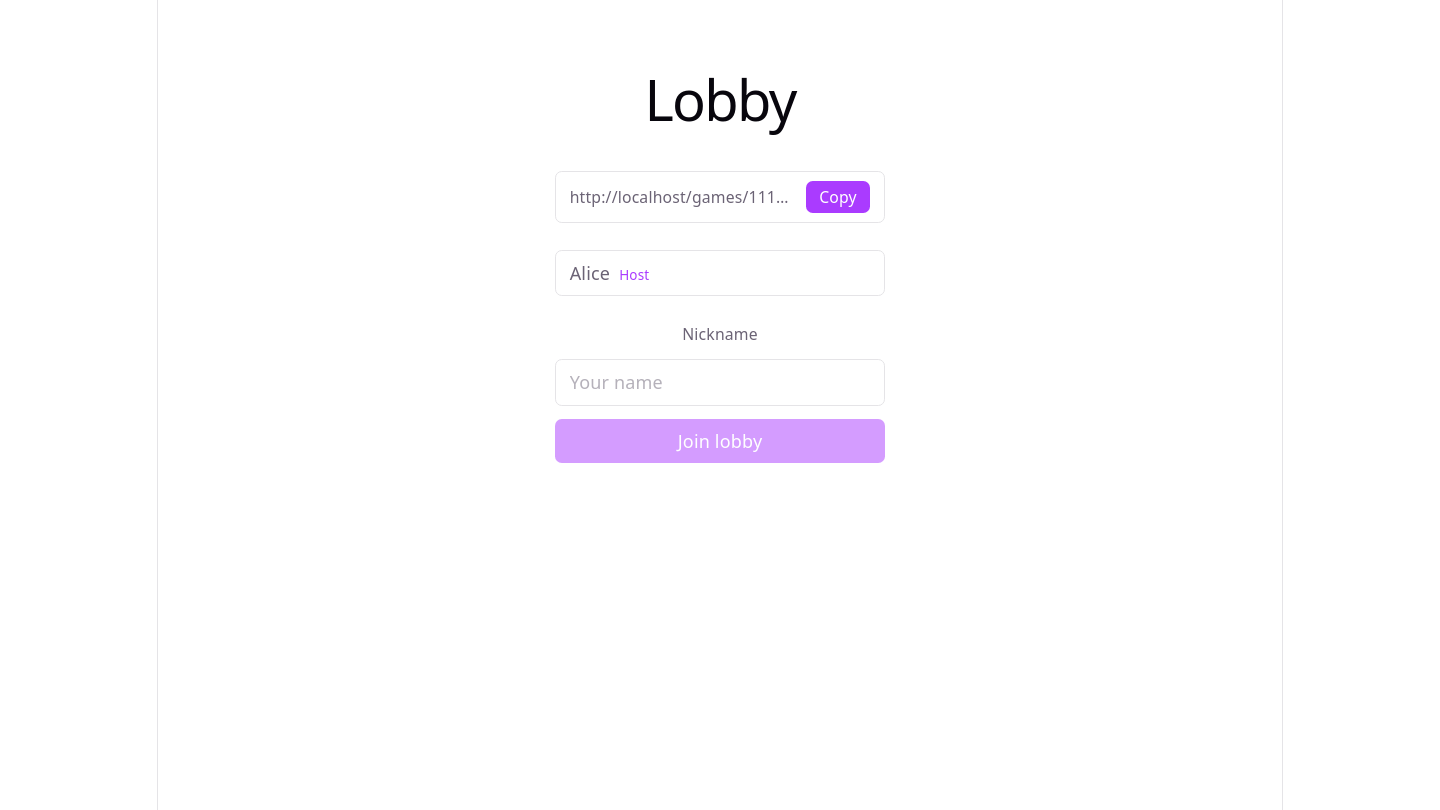
Test: LobbyPage › joins the lobby and shows the seated view
Type "Bob" into the field labelled "Nickname" at (720, 382), box [555,359,885,406]
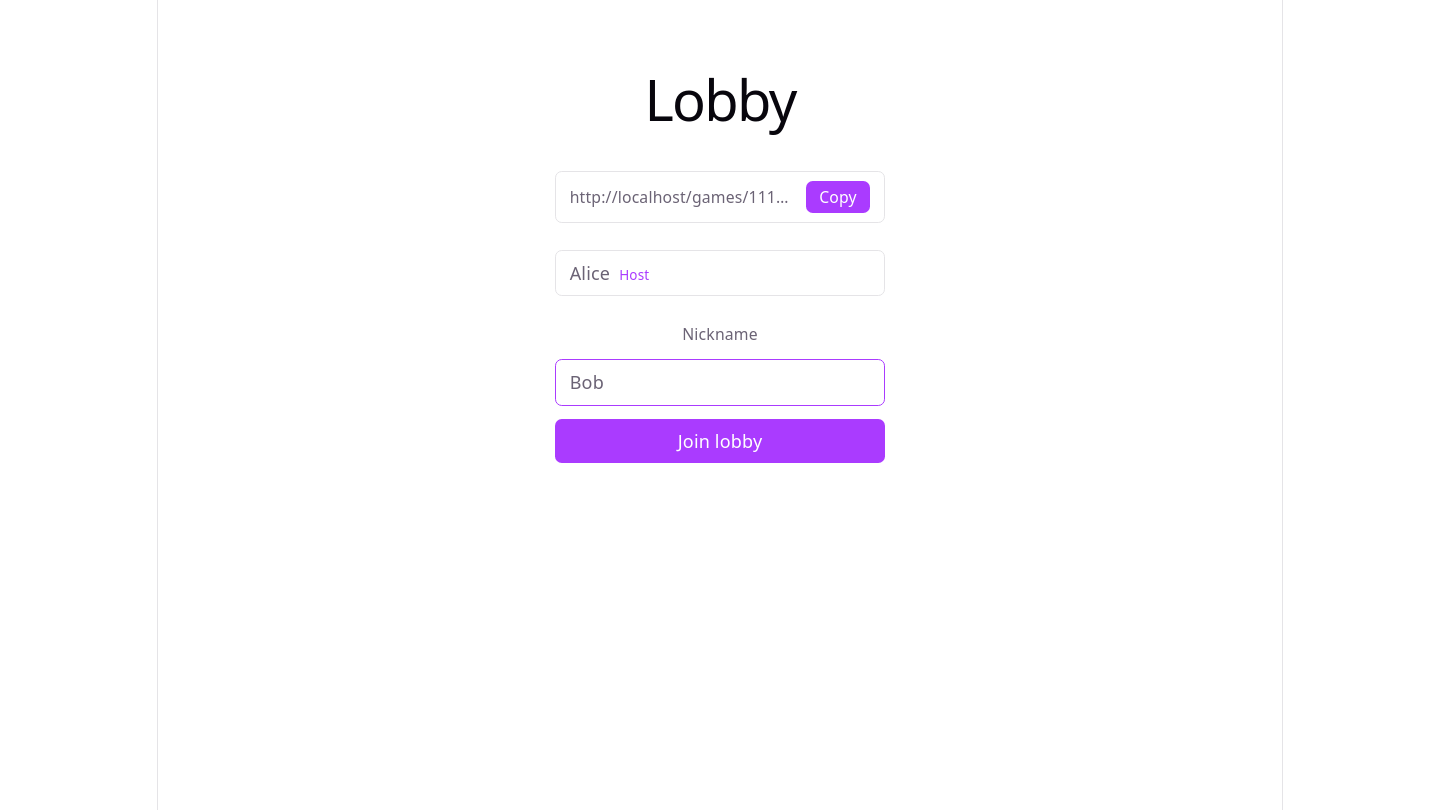
Click the button "Join lobby" at (720, 441), box [555,419,885,463]
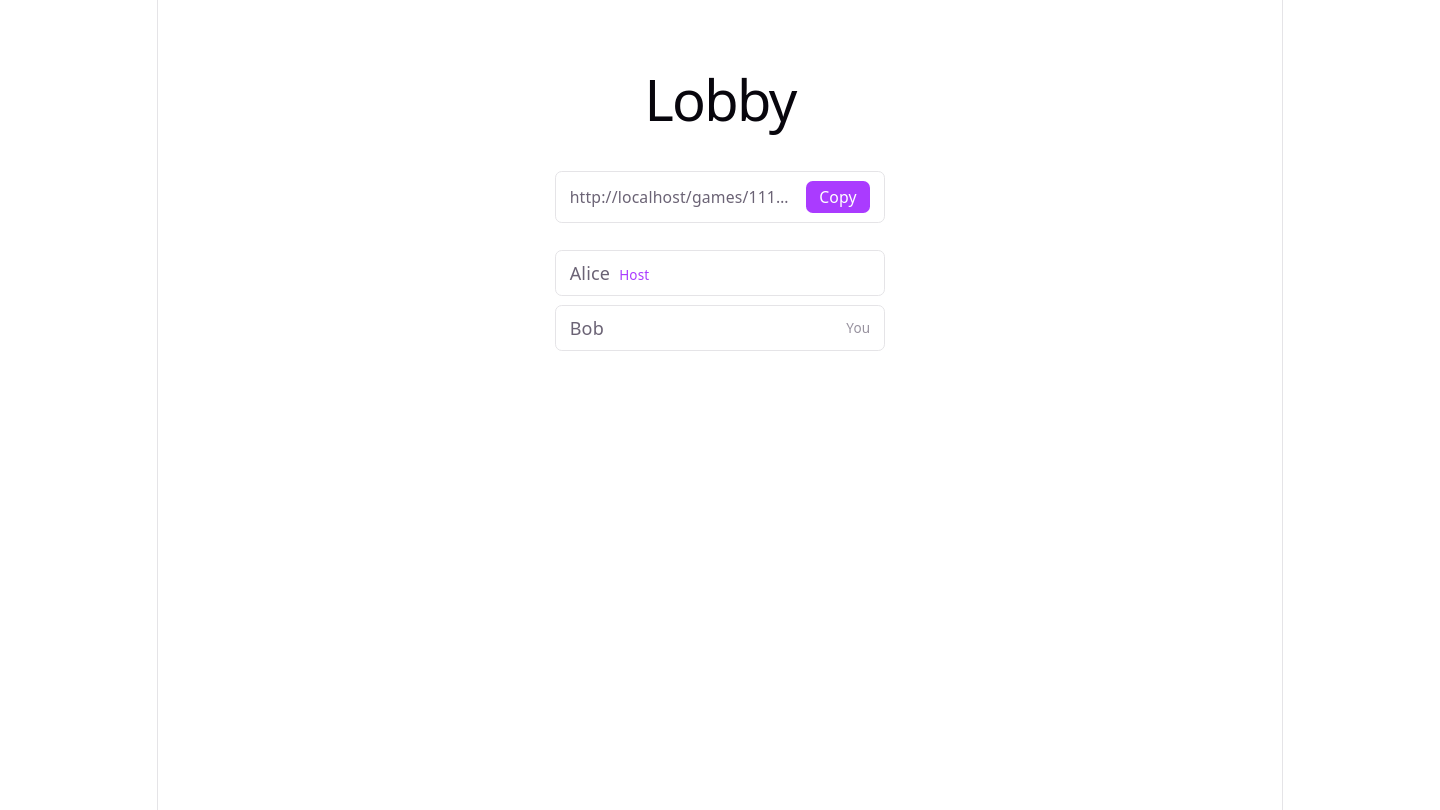
expect the label labelled "Nickname" is gone: met
expect the text "Bob" is shown: met, box [570,315,604,341]
